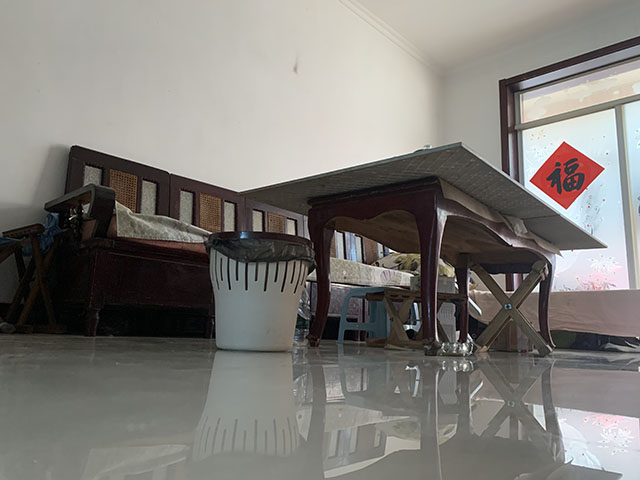sofa: (40, 144, 415, 337)
stool: (465, 260, 554, 358), (1, 223, 78, 336), (360, 288, 468, 350), (337, 286, 421, 342)
table: (236, 140, 613, 357)
trashcan: (200, 230, 319, 354)
